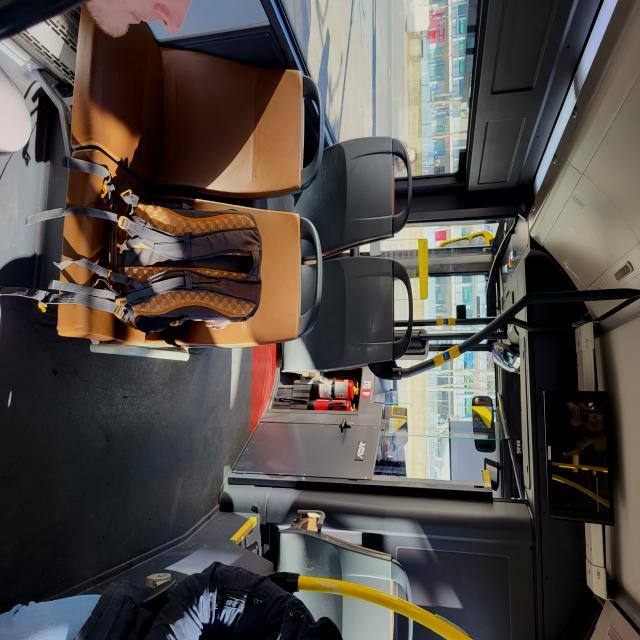asiento-libre: (166, 419, 310, 640), (544, 302, 640, 490), (261, 304, 353, 481), (352, 302, 441, 481)
